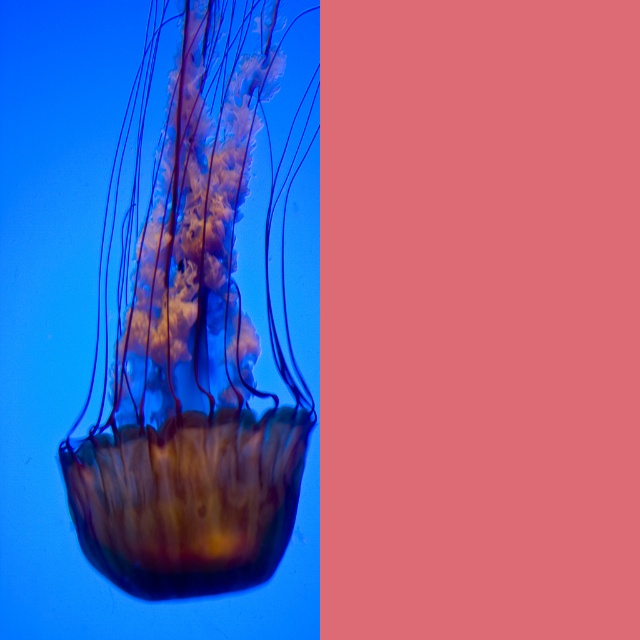Jellyfish: (56, 0, 320, 603)
